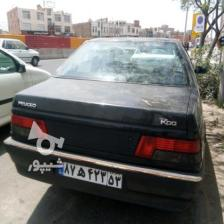plate: (58, 160, 122, 188)
